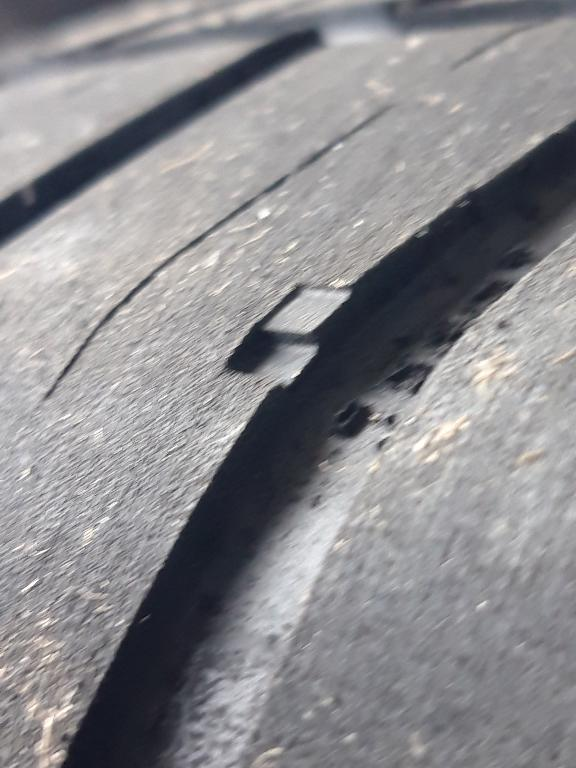temoin:25: (210, 267, 386, 416)
